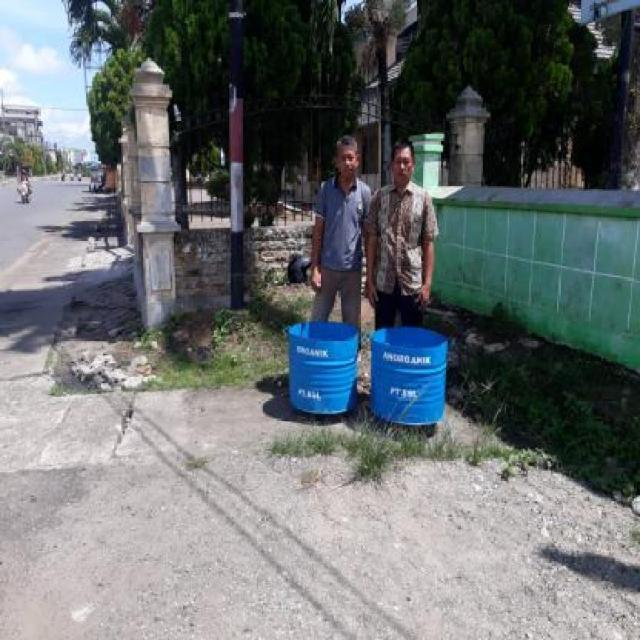garbage container: (365, 317, 461, 451), (283, 313, 366, 429)
